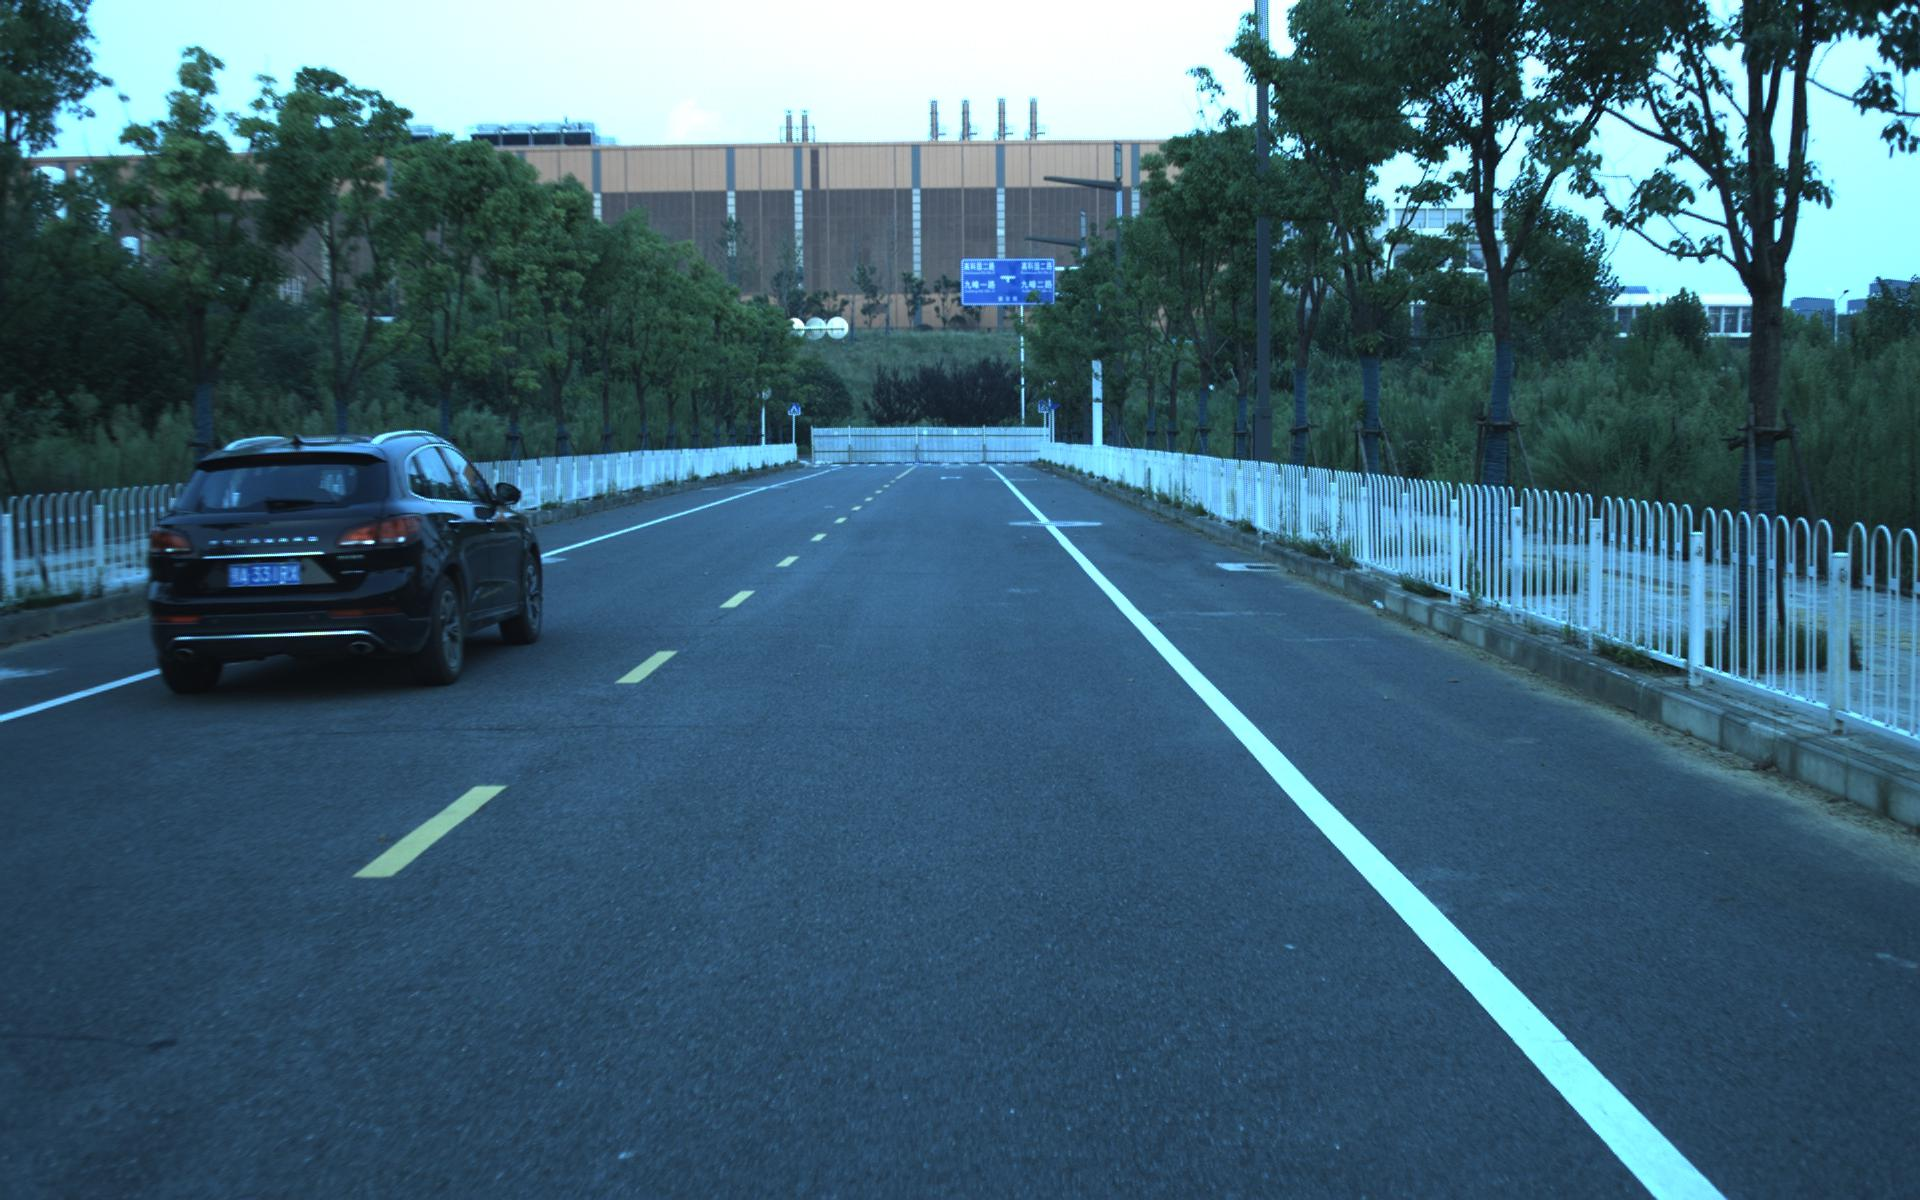Car: (127, 419, 552, 697)
